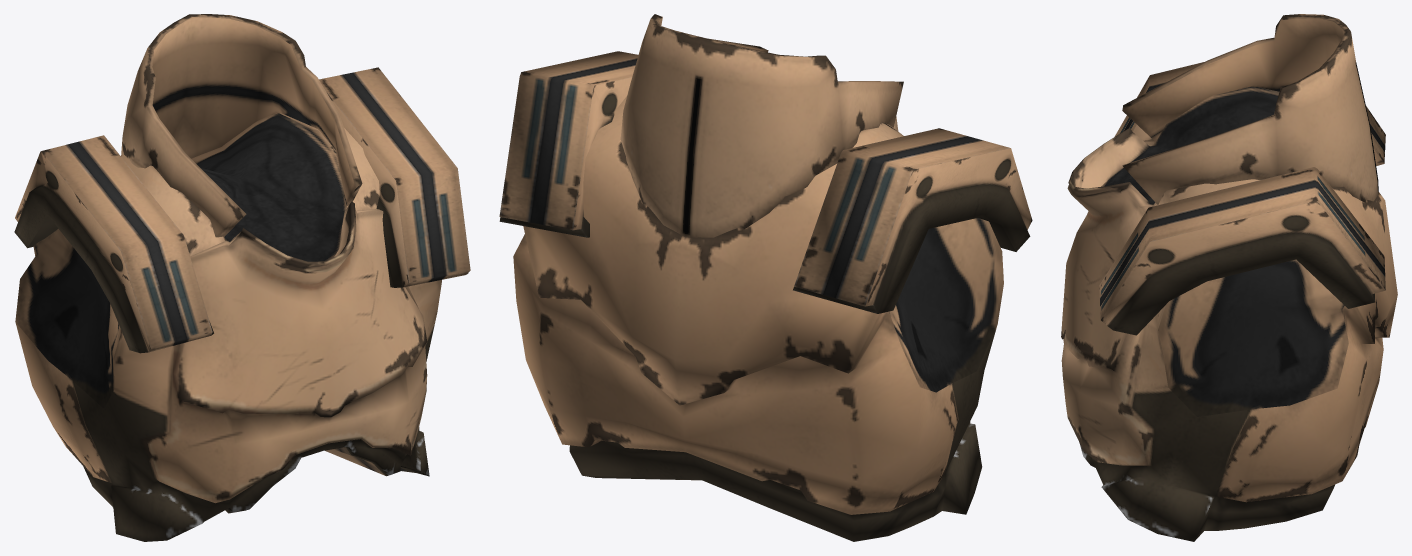
File: helmet_space.dae
The picture shows the model from 3 angles, left to right: view 1: azimuth 30°, elevation 25°; view 2: azimuth 150°, elevation 25°; view 3: azimuth 270°, elevation 25°; orthographic projection. The views are drawn at different scales.
Visible parts, largest first — view 1: armor.001; view 2: armor.001; view 3: armor.001.
Boxes of the visible parts, bbox=[...] form: armor.001: bbox=[14, 14, 470, 541]; armor.001: bbox=[499, 14, 1032, 541]; armor.001: bbox=[1061, 14, 1397, 541].
Size of the model in its own units: 1.18 by 0.9535 by 1.36.
